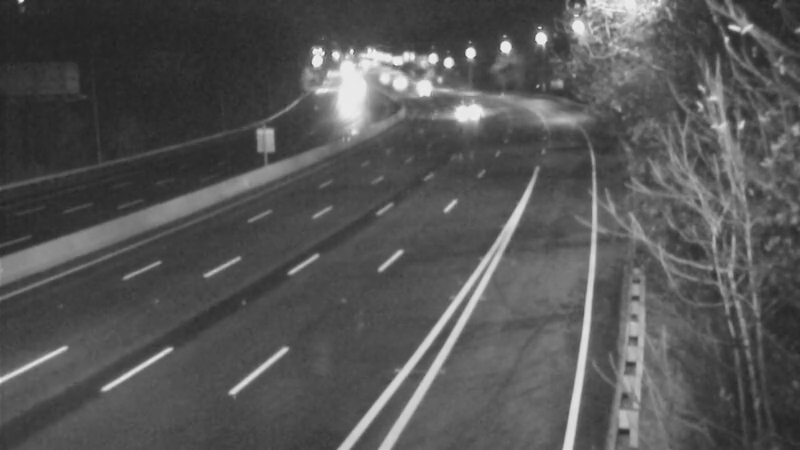vehicle: (357, 56, 407, 106), (373, 57, 423, 107), (394, 61, 444, 111), (398, 70, 448, 120), (435, 88, 485, 138), (321, 73, 371, 123)
